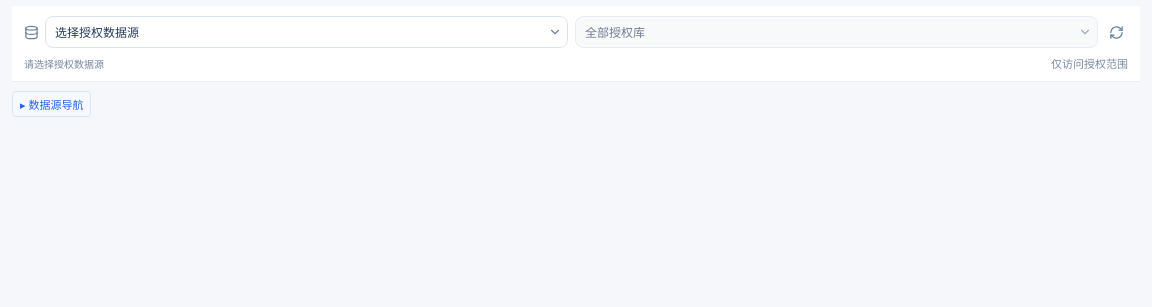
Schema Explorer API integration › does not widen a saved namespace to the whole source when that namespace disappears
Click the button "▸ 数据源导航".
click(52, 104)  # box left=12, top=91, right=91, bottom=117
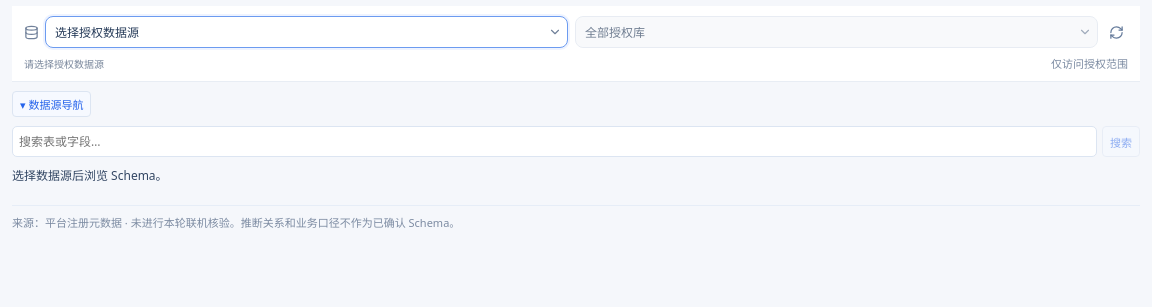
Click the dropdown named "选择数据源".
click(294, 32)  # box left=46, top=17, right=542, bottom=47
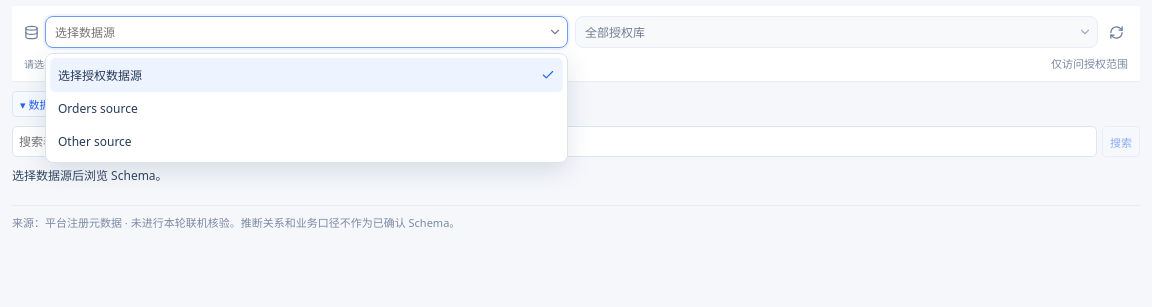
Now the option "Orders source" is shown
Click the option "Orders source".
click(98, 108)  # box left=50, top=92, right=563, bottom=125
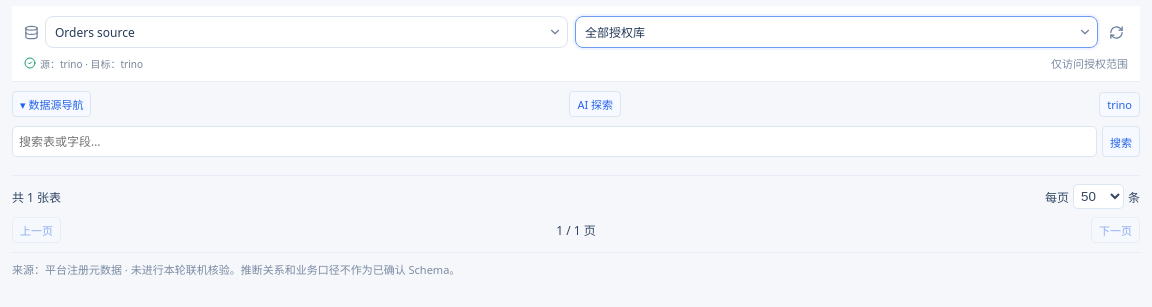
Click the dropdown named "选择数据库或 Schema".
click(824, 32)  # box left=576, top=17, right=1072, bottom=47
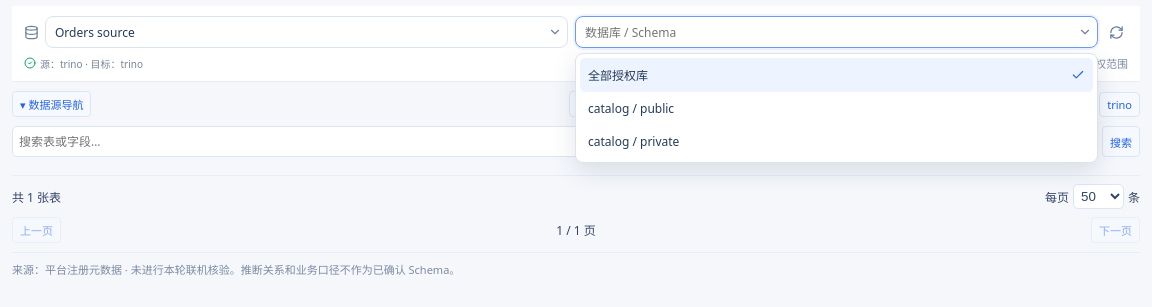
Now the option "catalog / public" is shown
Click the option "catalog / public".
click(631, 108)  # box left=580, top=92, right=1093, bottom=125
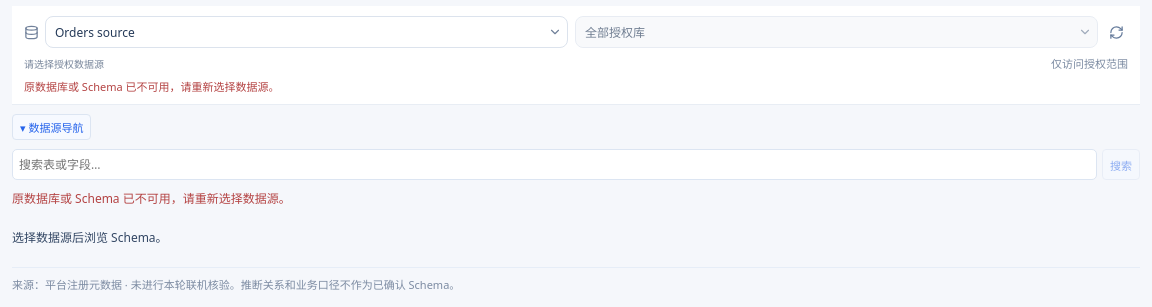
Now the message "原数据库或 Schema 已不可用，请重新选择数据源。" below "仅访问授权范围" is shown, box left=24, top=79, right=280, bottom=94
